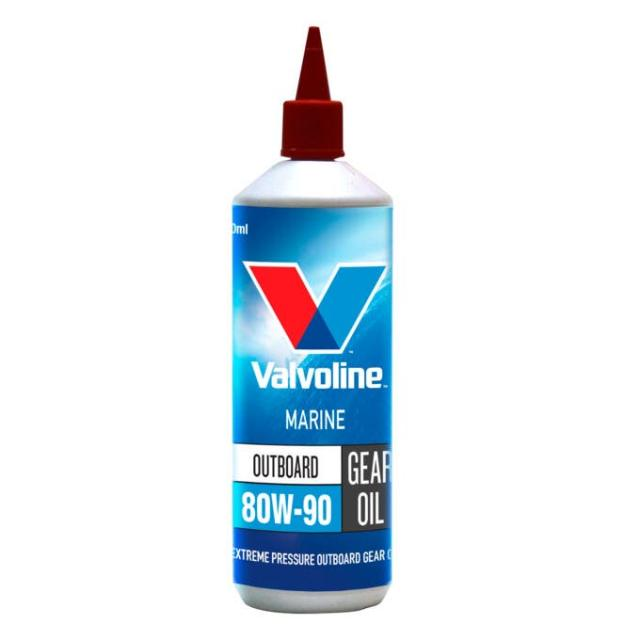-oil-: (223, 25, 399, 613)
